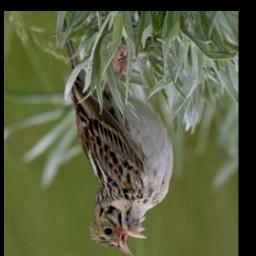Sparrow: (61, 19, 174, 256)
